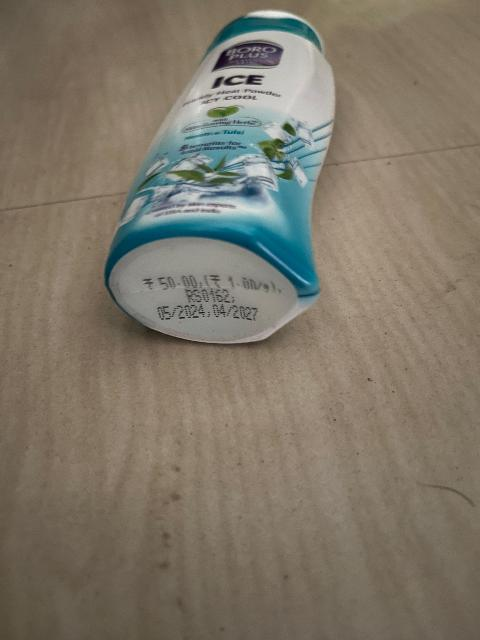boroplus: (116, 15, 343, 347)
